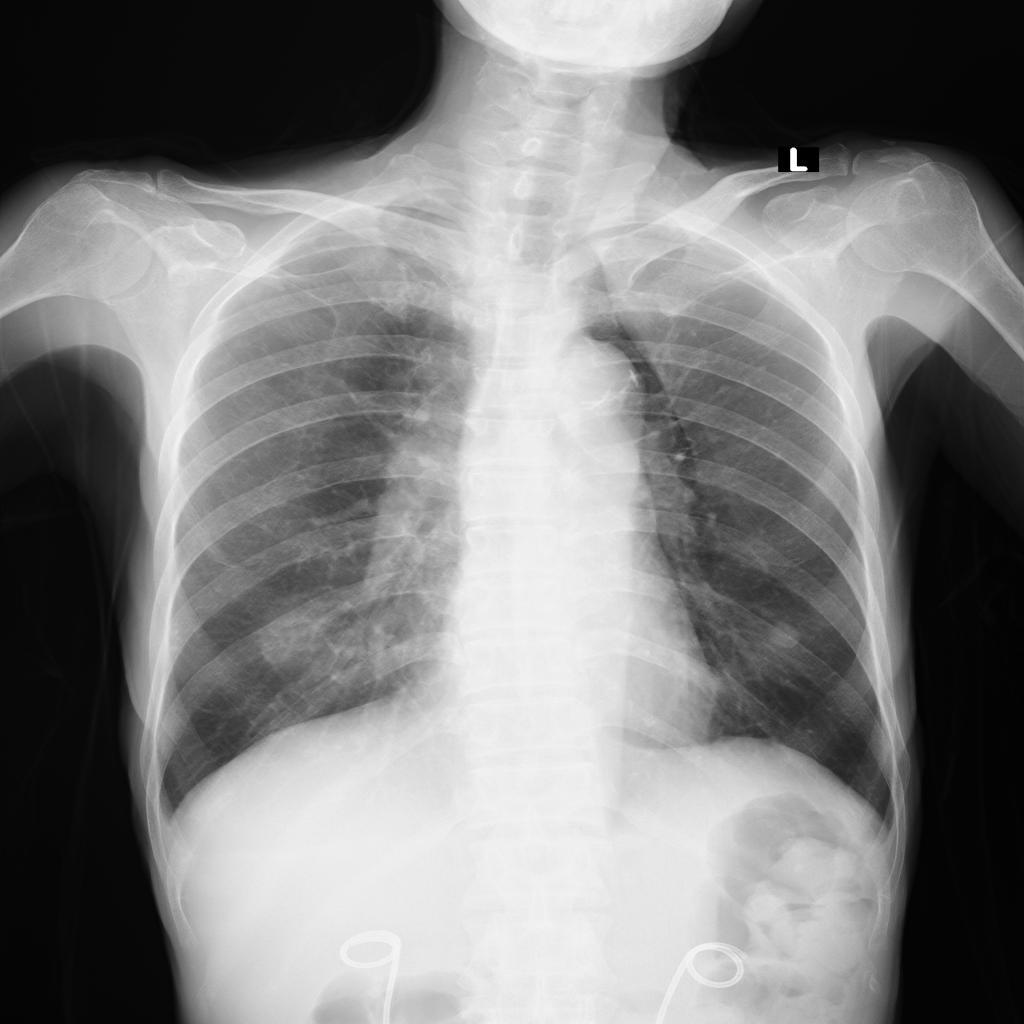Nodule: (257, 628, 309, 665), (767, 622, 803, 648)
